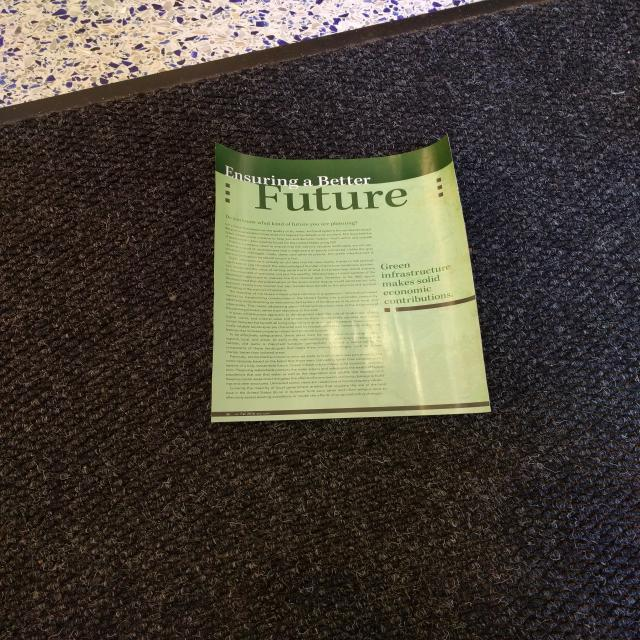document: (212, 138, 490, 422)
